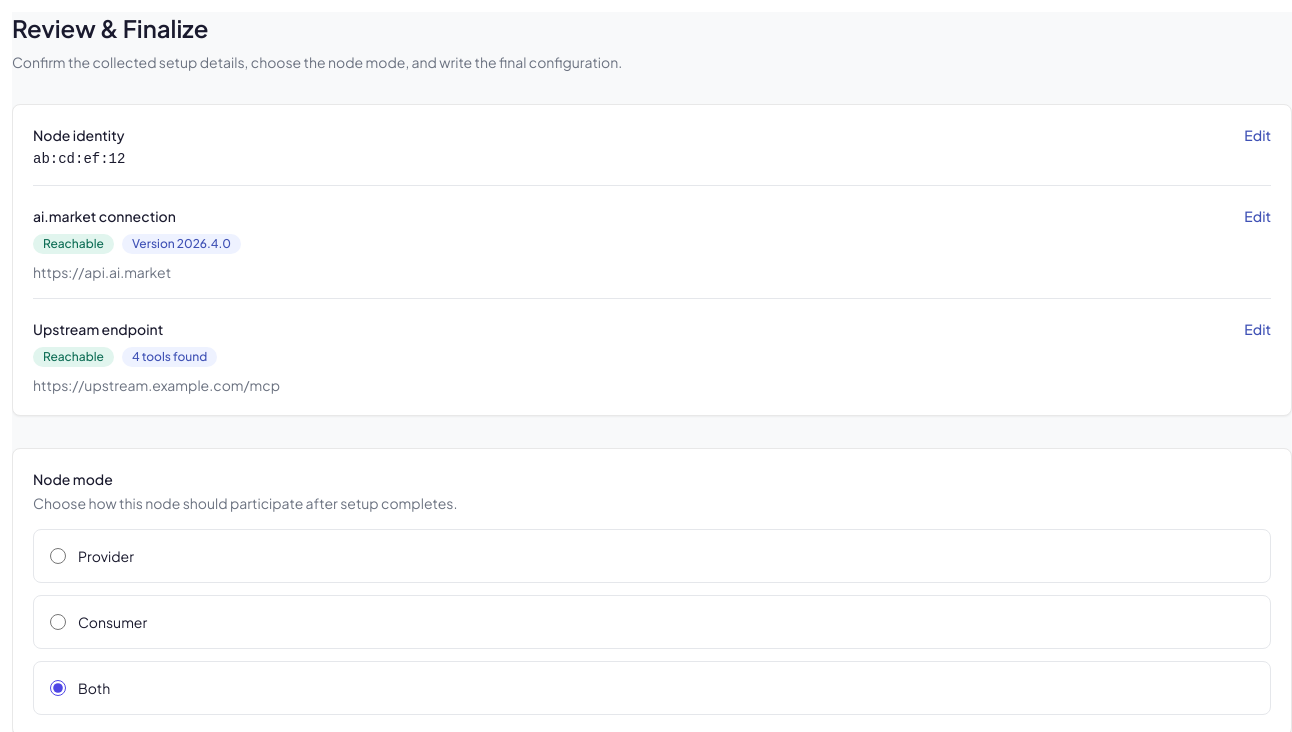
Test: ReviewStep › updates the selected mode through the radio group
The image size is (1292, 732).
Click the radio button labelled "Provider" at (58, 556), box [50, 548, 66, 564]
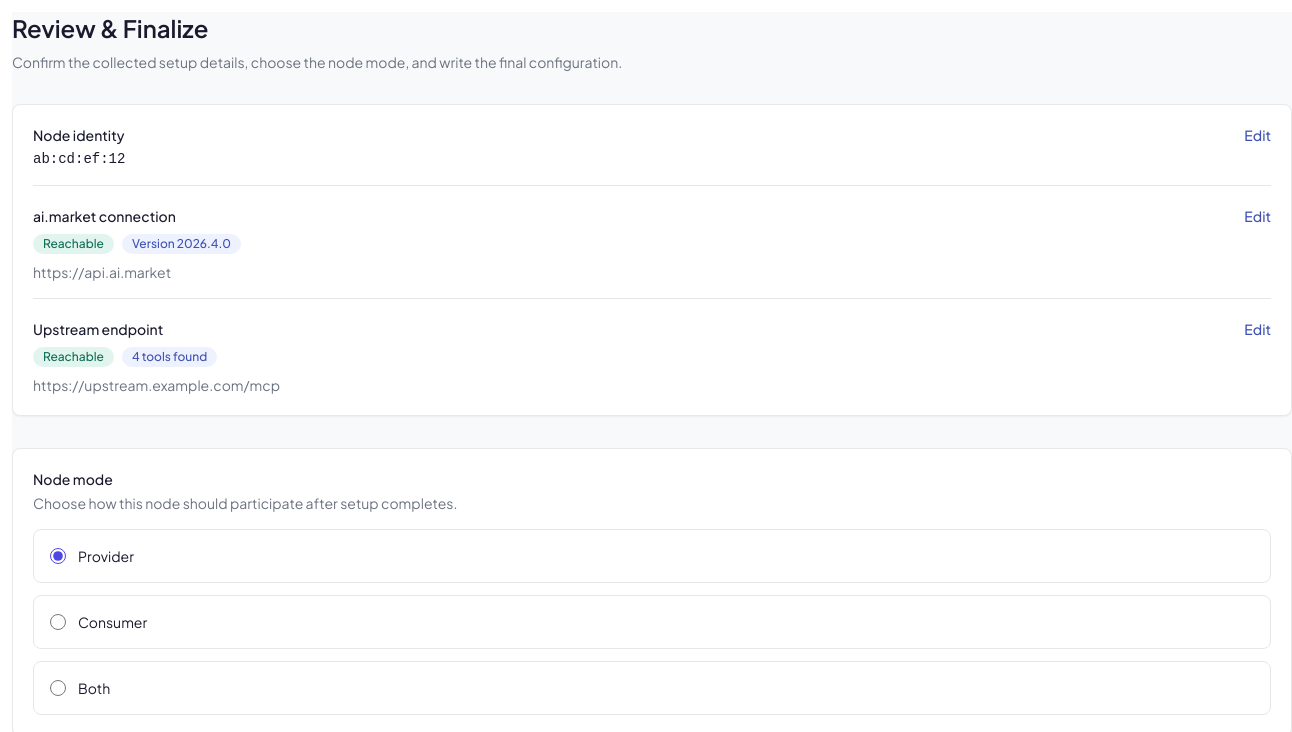
Expected: the radio button labelled "Provider" is checked, [50, 548, 66, 564]
Expected: the radio button labelled "Both" is not checked, [50, 680, 66, 696]
